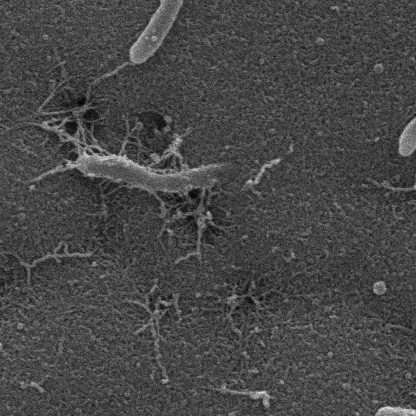cell2surface: (153, 189, 211, 251), (39, 117, 109, 156), (153, 130, 190, 169), (0, 120, 7, 228), (400, 169, 416, 195)
filament: (76, 156, 236, 190), (398, 0, 416, 158)
regular: (129, 0, 200, 65), (376, 409, 416, 416)
